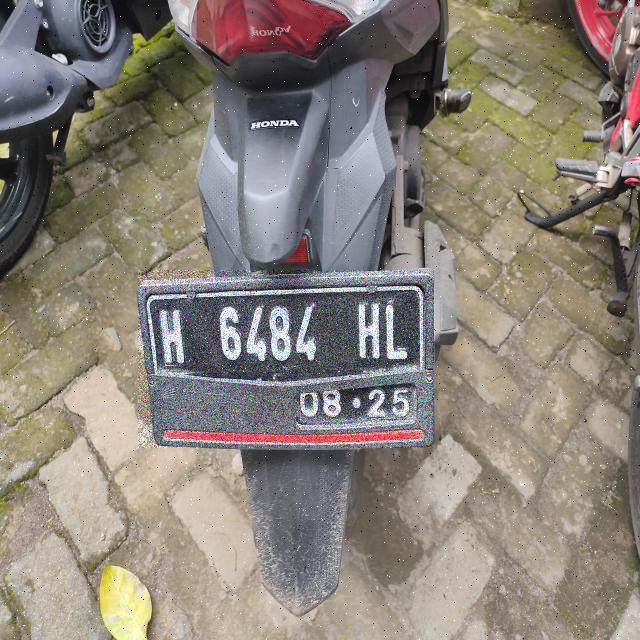plate: (139, 270, 433, 447)
